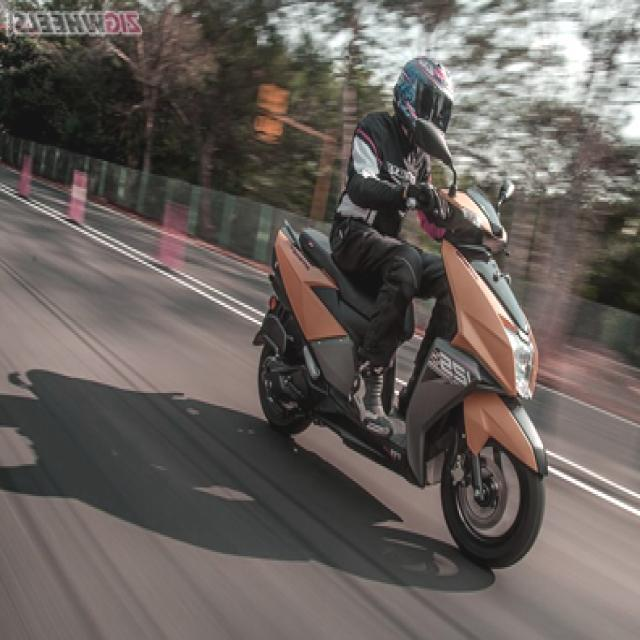Helmet: (390, 42, 462, 150)
